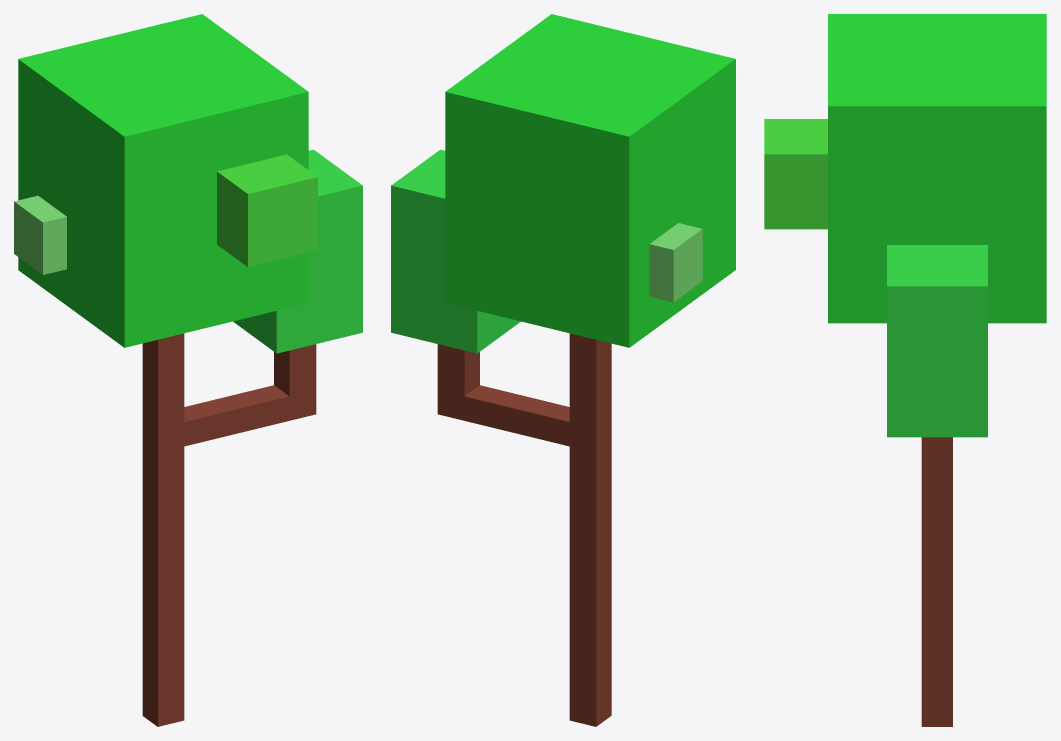
Rendered from Tree.glb.
3 views of the same model, side by side, from view 1: azimuth 30°, elevation 25°; view 2: azimuth 150°, elevation 25°; view 3: azimuth 270°, elevation 25° (orthographic). The views are drawn at different scales.
Parts seen in each view (by area): view 1: tree; view 2: tree; view 3: tree.
Part boxes in pixels (x1,y1,x2,y2): tree: (14,14,362,726); tree: (391,14,735,726); tree: (764,14,1046,726).
Size of the model in its own units: 8.32 by 17.56 by 6.8.
